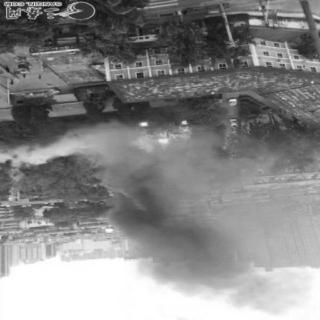Fire: (112, 120, 200, 154)
Smoke: (122, 168, 200, 262)
